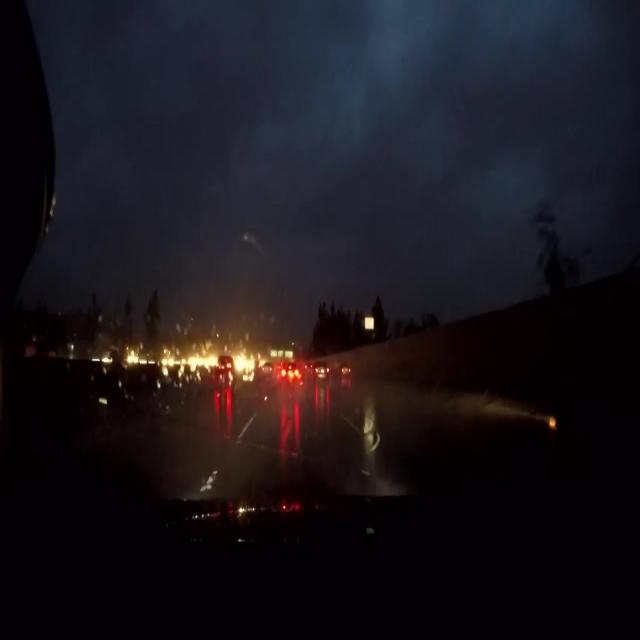Car: (278, 360, 301, 386), (309, 358, 328, 386), (216, 353, 235, 379)
